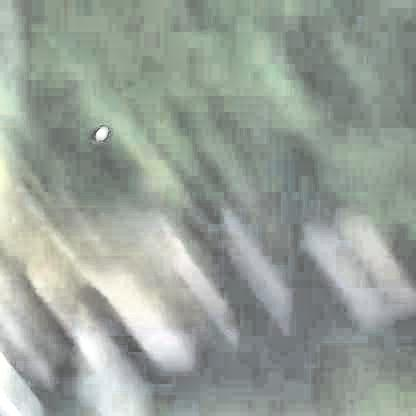golfball: (93, 124, 104, 137)
